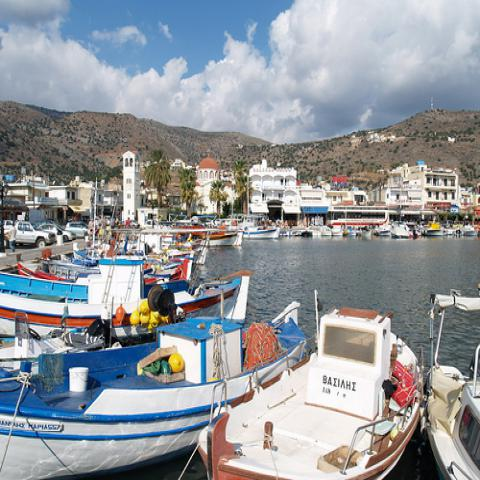car: (37, 223, 77, 242), (64, 221, 88, 239), (0, 219, 14, 233), (130, 220, 140, 228)
truck: (15, 220, 56, 248)
